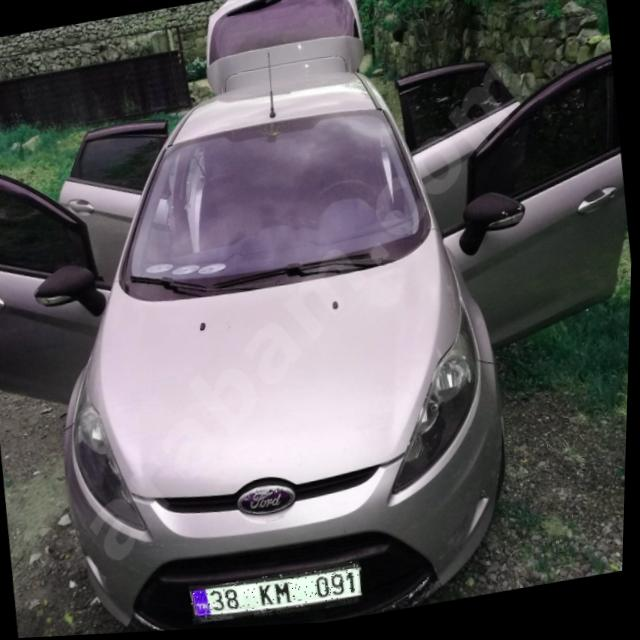license_plate: (193, 564, 366, 627)
